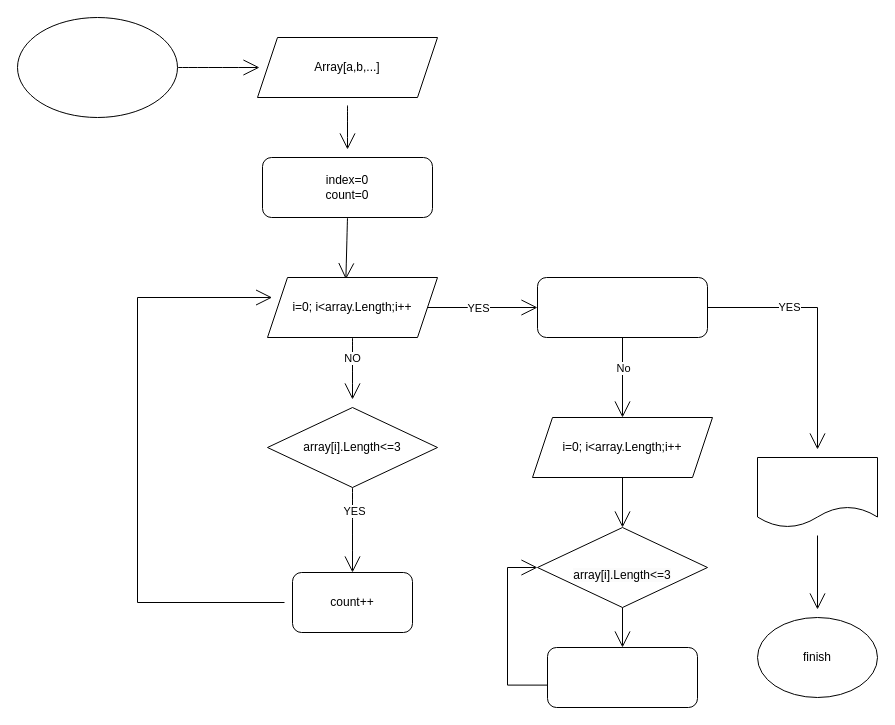
Some shapes in this 895 by 725 pixel diagram are drawn without their labels. The box of each missing label's shape, as (x1, y1, x2, y2) in pixels:
print: (756, 456, 878, 528)
resultArraay=string[count]: (536, 276, 708, 338)
resultArray[index]=array[i] index++: (546, 646, 698, 708)
start: (16, 16, 178, 118)
